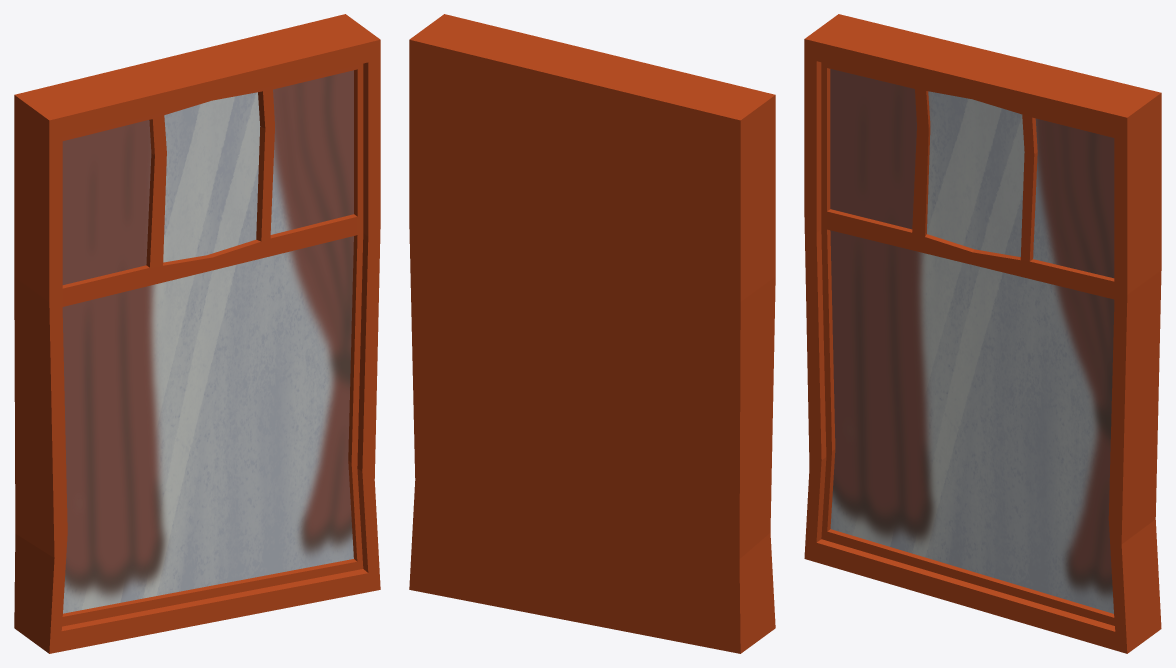
File: Window17.fbx
The picture shows the model from 3 angles, left to right: view 1: azimuth 30°, elevation 25°; view 2: azimuth 150°, elevation 25°; view 3: azimuth 330°, elevation 25°; orthographic projection. The views are drawn at different scales.
Visible parts, largest first — view 1: Cube.093; view 2: Cube.093; view 3: Cube.093.
Part boxes in pixels (<box>): Cube.093: <box>14,14,380,653</box>; Cube.093: <box>409,14,775,653</box>; Cube.093: <box>804,14,1161,653</box>.
Bounding box in the file's own units: 130 × 206 × 23.83.
